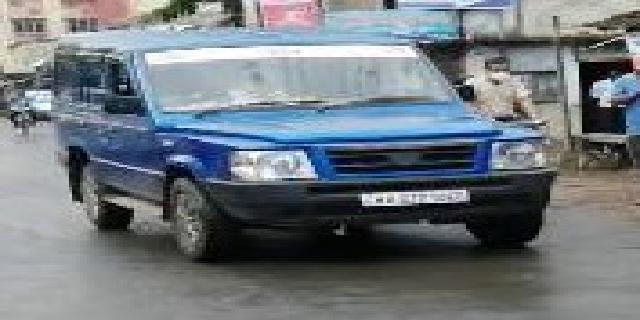Car: (51, 31, 575, 274)
